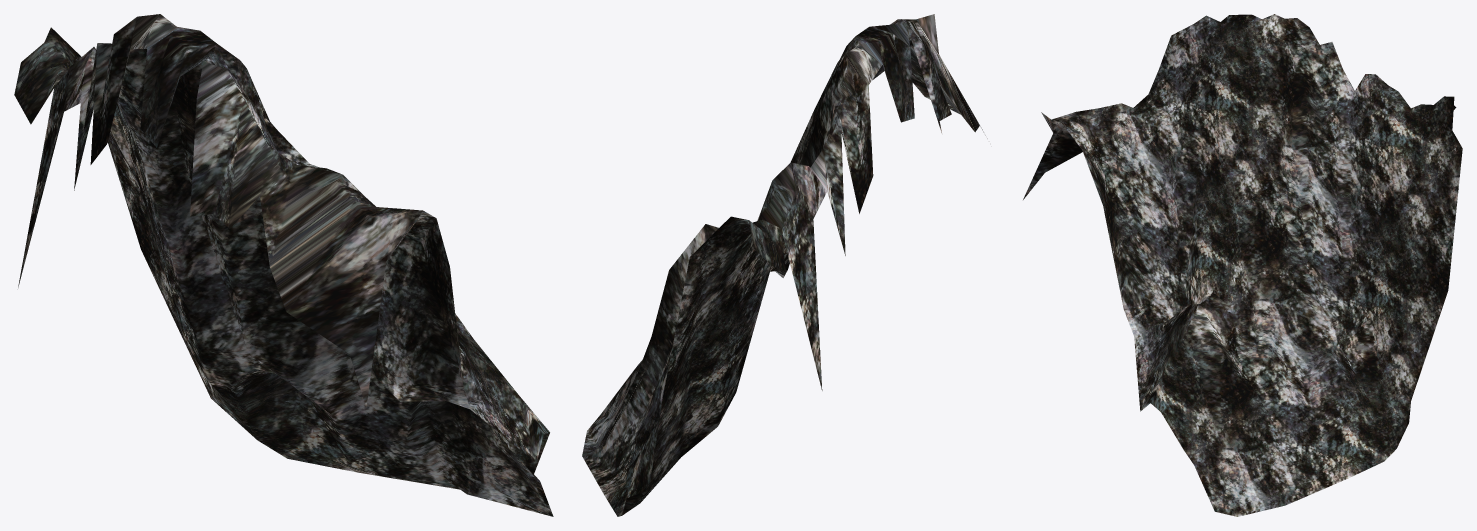
The model's file is OVERHILL_A_01_MOUN1_OBJECT143.fbx.
The picture shows the model from 3 angles, left to right: view 1: azimuth 30°, elevation 25°; view 2: azimuth 150°, elevation 25°; view 3: azimuth 270°, elevation 25°; orthographic projection. The views are drawn at different scales.
Visible parts, largest first — view 1: OVERHILL_A_01_MOUN1_OBJECT143; view 2: OVERHILL_A_01_MOUN1_OBJECT143; view 3: OVERHILL_A_01_MOUN1_OBJECT143.
Part boxes in pixels (x1=…): OVERHILL_A_01_MOUN1_OBJECT143: x1=14, y1=14, x2=553, y2=516; OVERHILL_A_01_MOUN1_OBJECT143: x1=582, y1=14, x2=987, y2=516; OVERHILL_A_01_MOUN1_OBJECT143: x1=1023, y1=14, x2=1462, y2=516.
Bounding box in the file's own units: 258333 × 344030 × 358276.
Materials: 1 (1 with a texture image).
